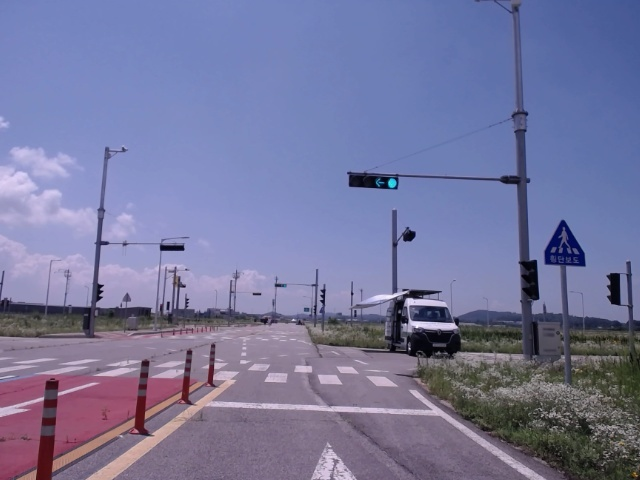all_green_4: (348, 172, 398, 186)
